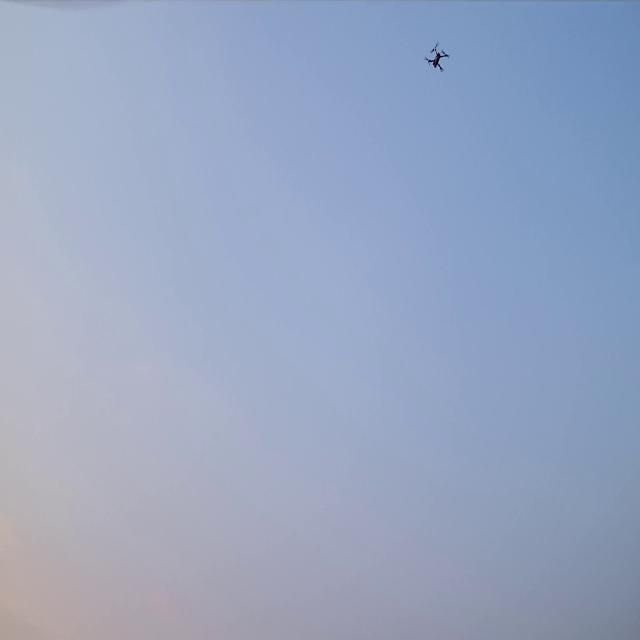UAV: (427, 47, 448, 71)
